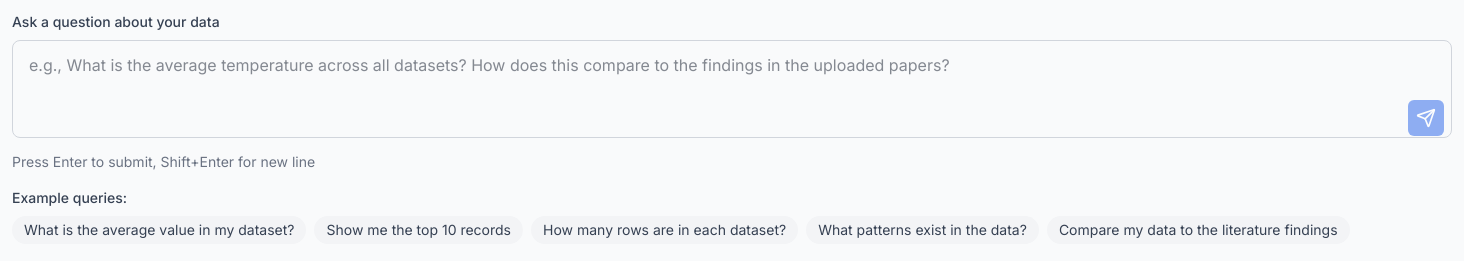
Test case: QueryInput › sets query text when an example is clicked
The image size is (1464, 261).
Click the button "What is the average value in my dataset?": (159, 230) [12, 216, 306, 244]
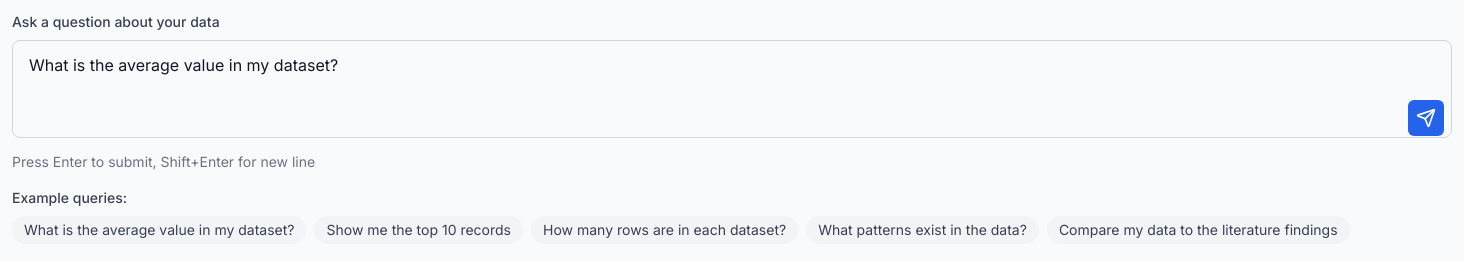
Check: the text box holds "What is the average value in my dataset?", box [12, 40, 1452, 138]
